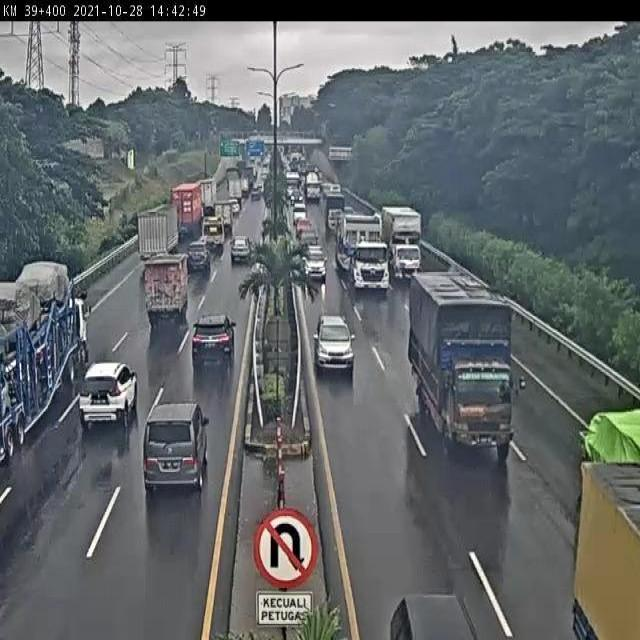big truck: (0, 257, 100, 463), (340, 219, 395, 292), (385, 210, 425, 282)
car: (139, 401, 209, 492), (80, 356, 139, 427), (315, 315, 357, 373), (191, 314, 237, 366), (185, 242, 210, 274), (229, 233, 253, 266), (304, 249, 327, 280), (302, 241, 324, 272), (298, 227, 320, 253)
mid truck: (407, 272, 518, 461), (326, 193, 348, 236), (198, 214, 226, 247)
truck-m-: (143, 254, 191, 334), (137, 201, 183, 259)
